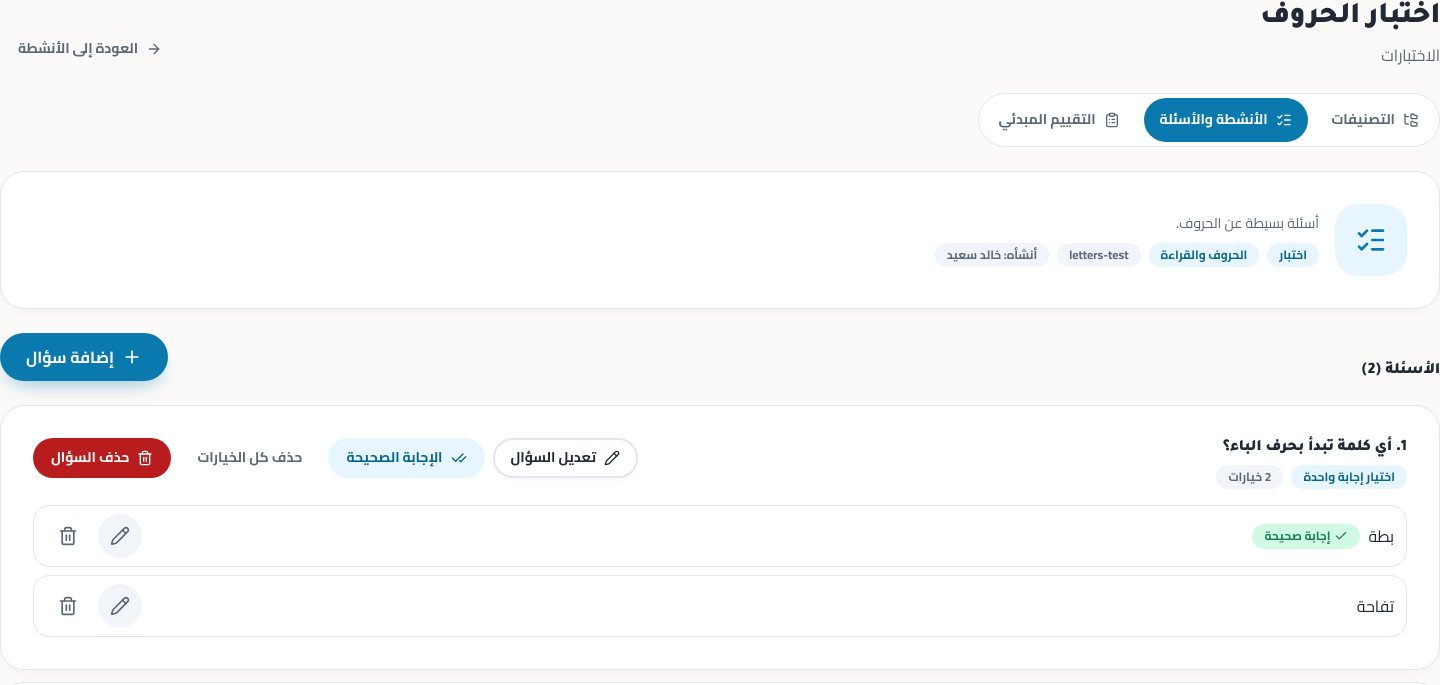
Test: ActivityDetailPage › deletes an option and all options only after confirmation
The width and height of the screenshot is (1440, 685).
Expected: the heading "الأسئلة (2)" is shown, [1361,361,1439,381]
Step 1. Click the button named "حذف الخيار: تفاحة" → coordinates (68, 606), box [46,584,90,628]
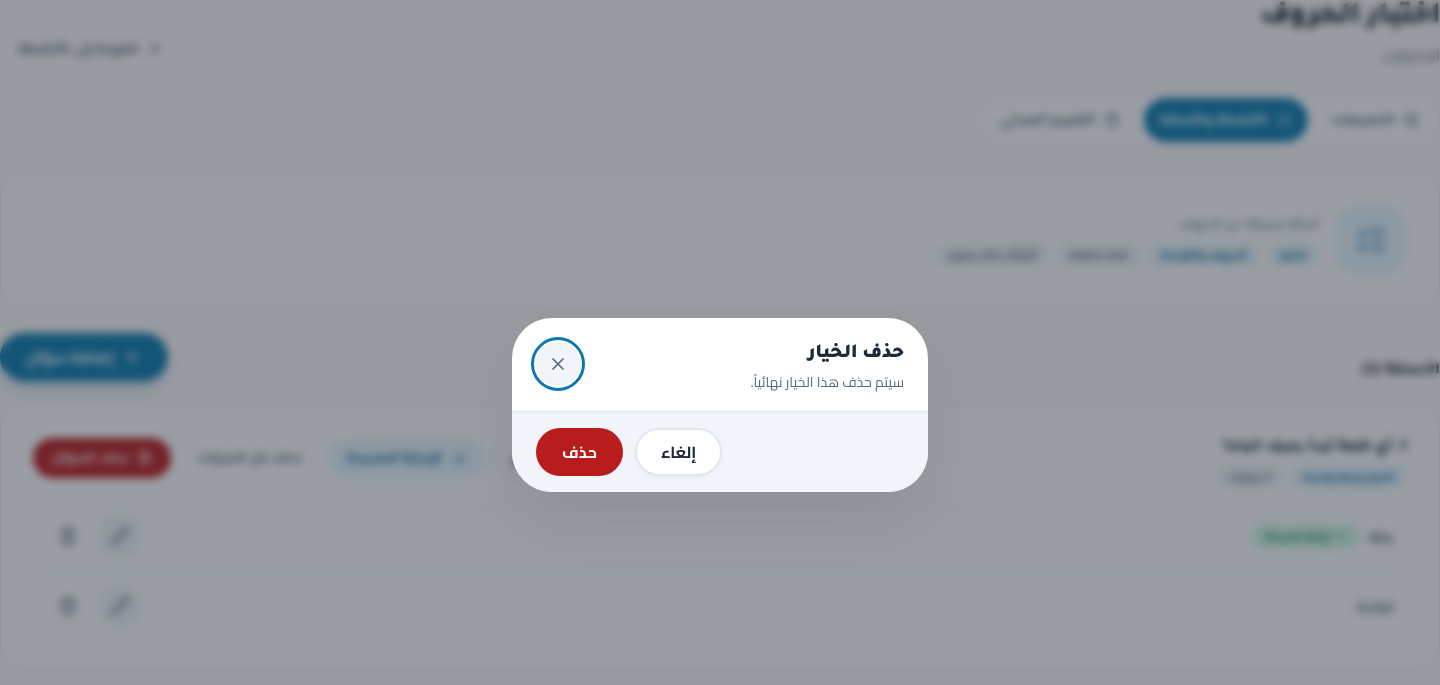
Step 2. Click the button "حذف" → coordinates (579, 452), box [536,428,623,476]
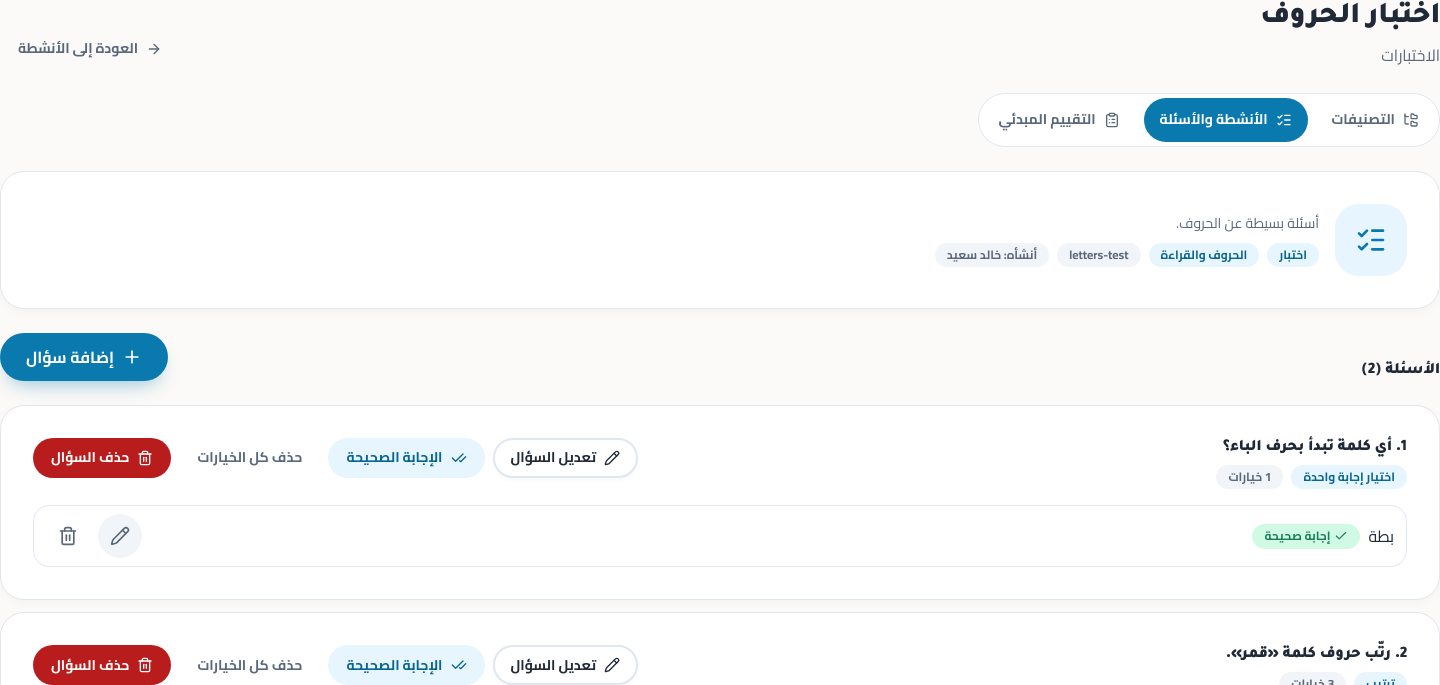
Result: the text "تفاحة" is gone
Step 3. Click the button "حذف كل الخيارات" in the row of "1. أي كلمة تبدأ بحرف الباء؟" → coordinates (250, 458), box [180,438,320,478]
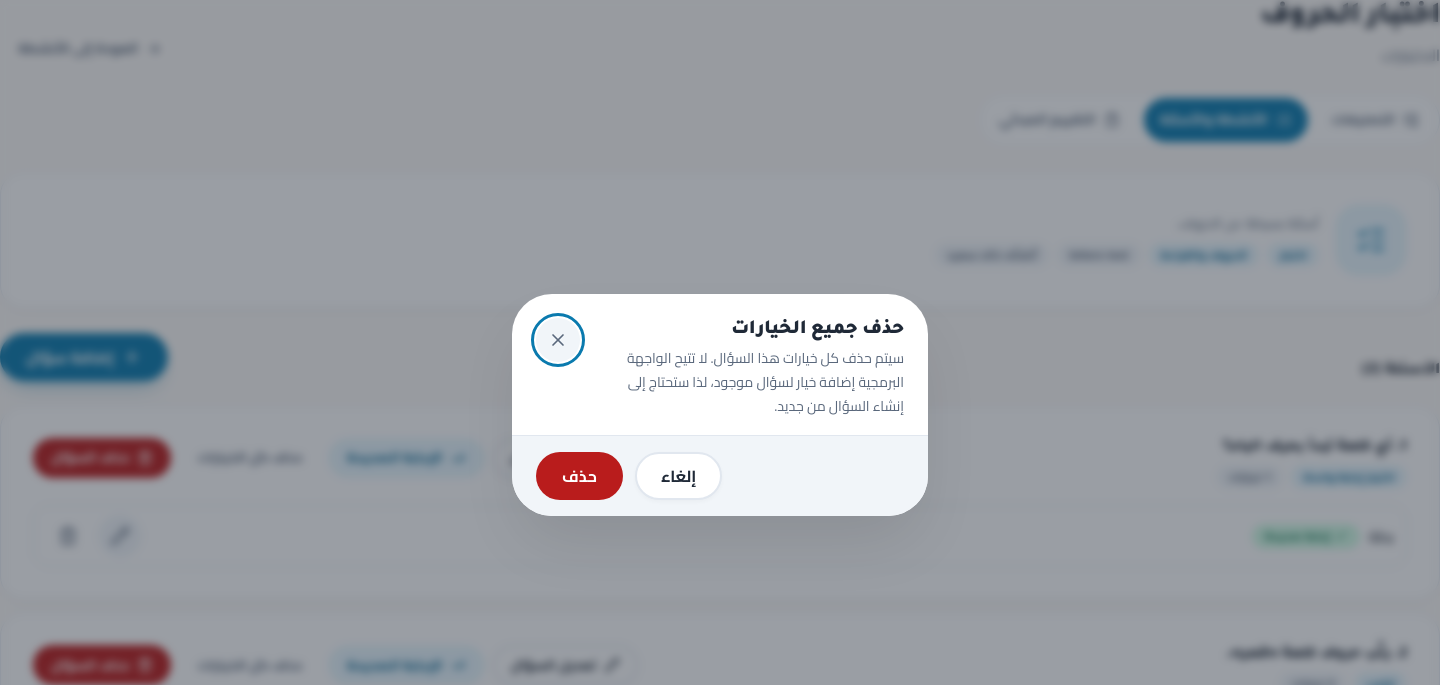
Step 4. Click the button "حذف" → coordinates (579, 476), box [536,452,623,500]
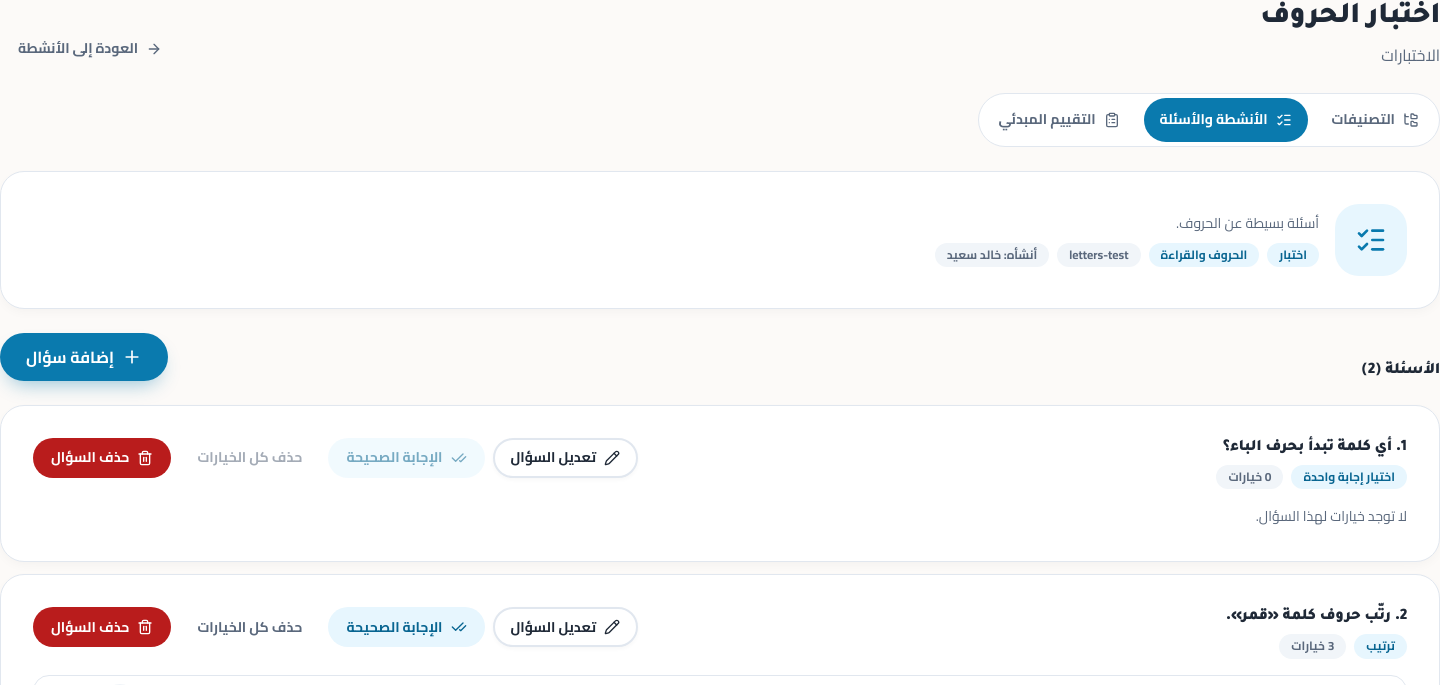
Result: the text "لا توجد خيارات لهذا السؤال." is shown at [1256,504,1407,530]
